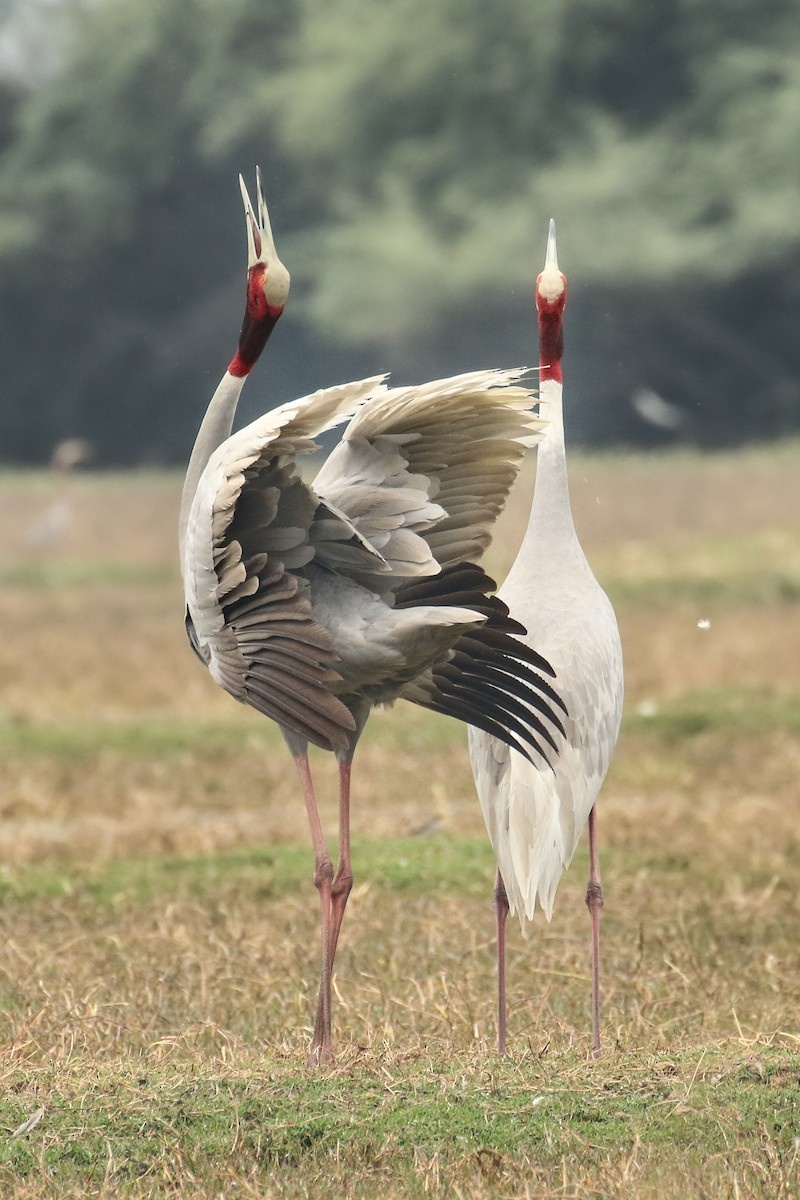crane: (209, 155, 467, 1039), (492, 208, 640, 1071)
